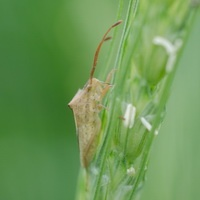insect: (68, 20, 121, 167)
